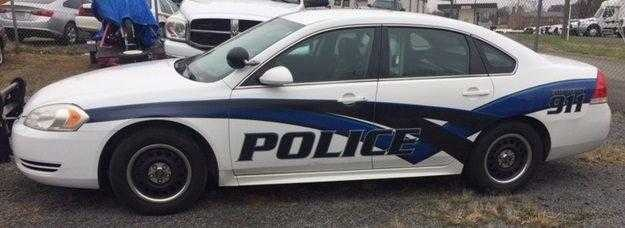Police Car: (7, 20, 618, 209)
